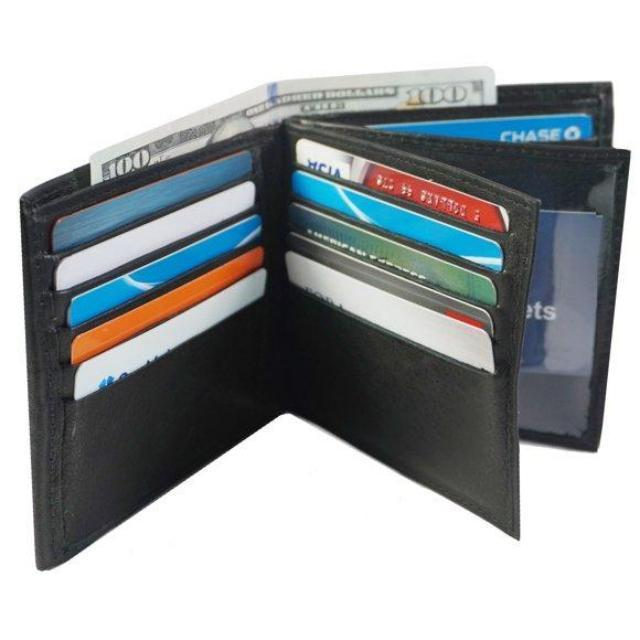wallet: (17, 71, 626, 579)
